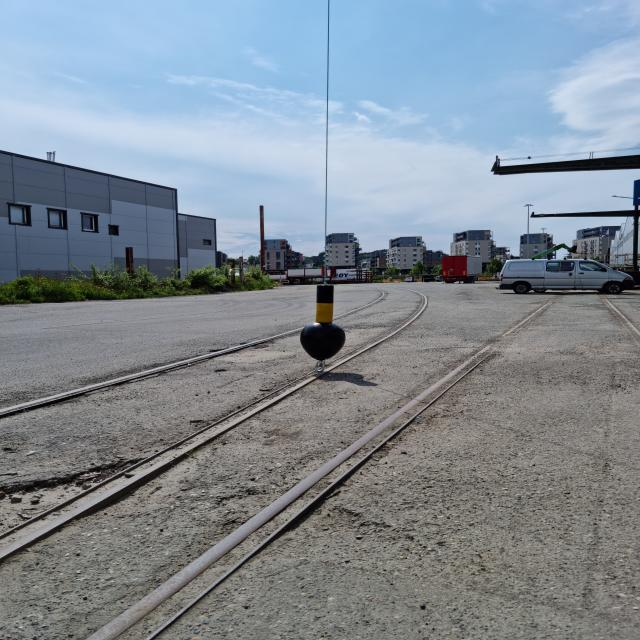east: (300, 285, 346, 361)
